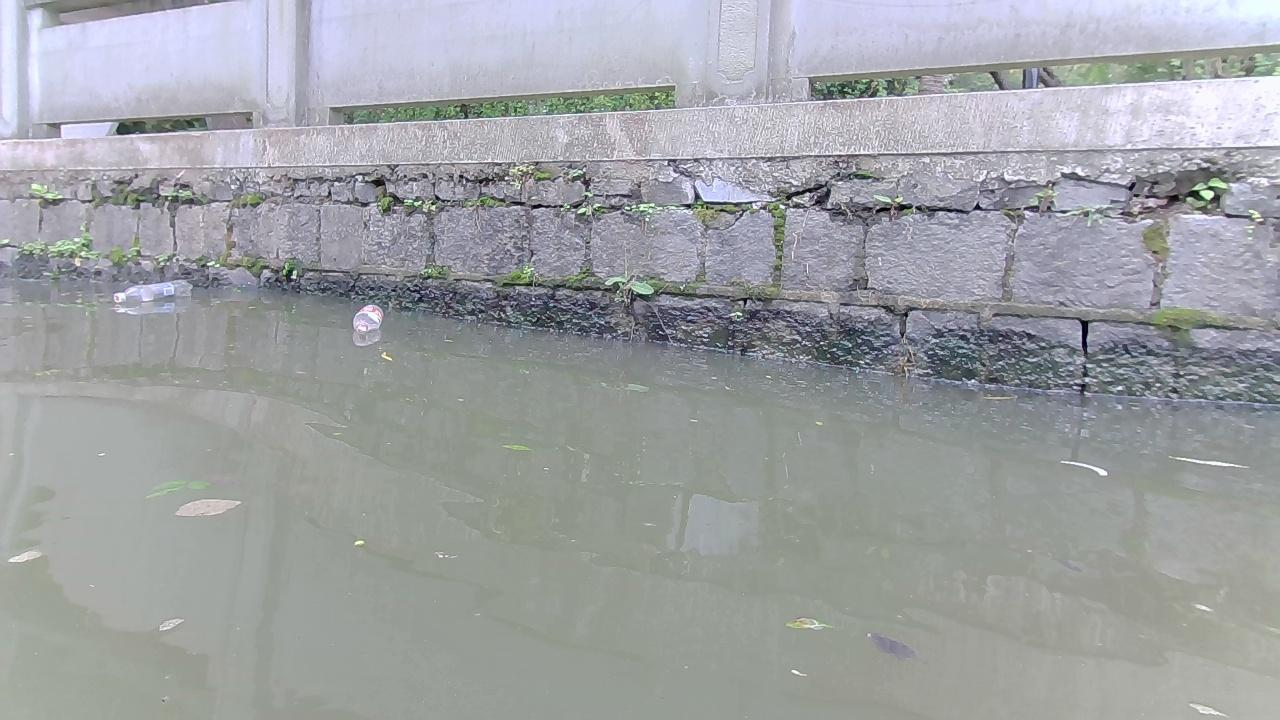bottle: (112, 277, 193, 303), (352, 304, 383, 334)
